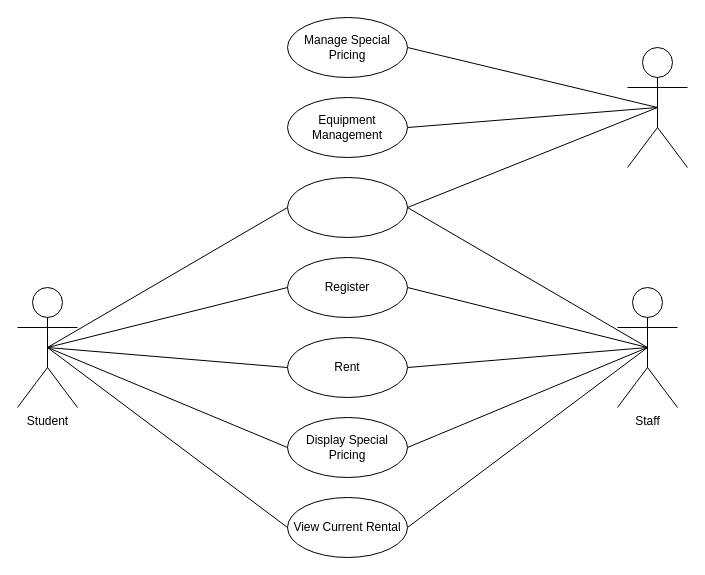
The diagram is 705 pixels wide and 575 high, and some of its shapes have lost their labels. Here are the shapes that lost their labels. From the top down, the centre of each, then its label:
pixel 657 107: Admin
pixel 347 207: Login
